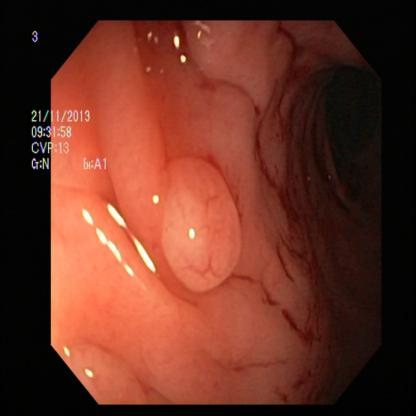Labels: (26, 100, 124, 183)
Polyps: (154, 151, 244, 292)
